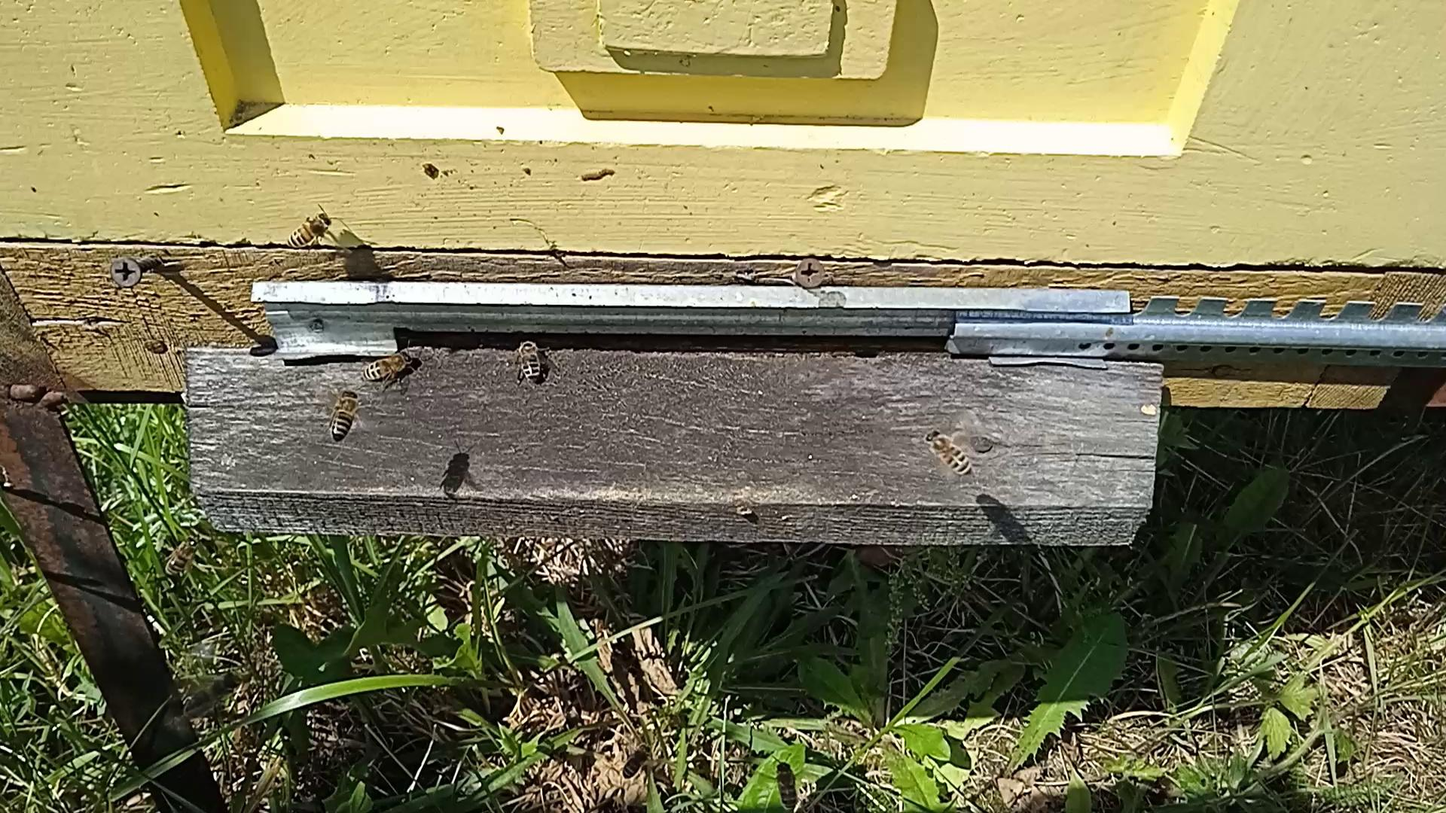worker-bee: (179, 675, 240, 719), (926, 429, 974, 476), (363, 349, 416, 384), (328, 388, 362, 442), (287, 210, 333, 247), (512, 338, 548, 385), (166, 536, 200, 575), (775, 760, 799, 810), (622, 744, 651, 779)
